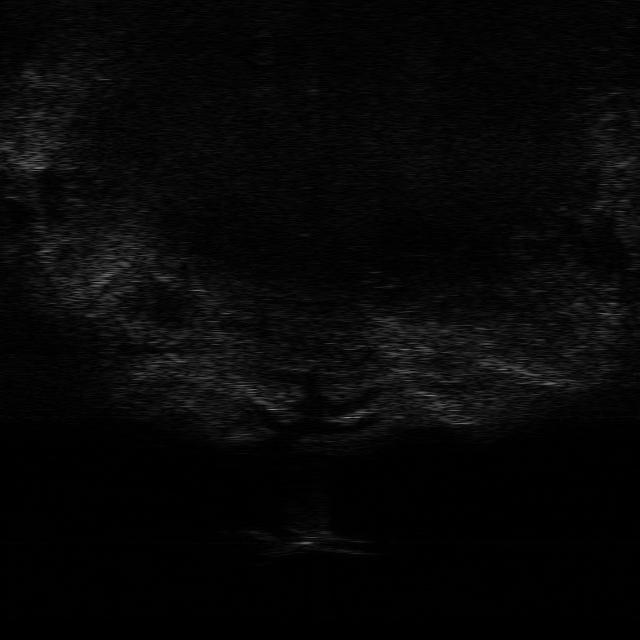plane: (241, 524, 374, 557)
